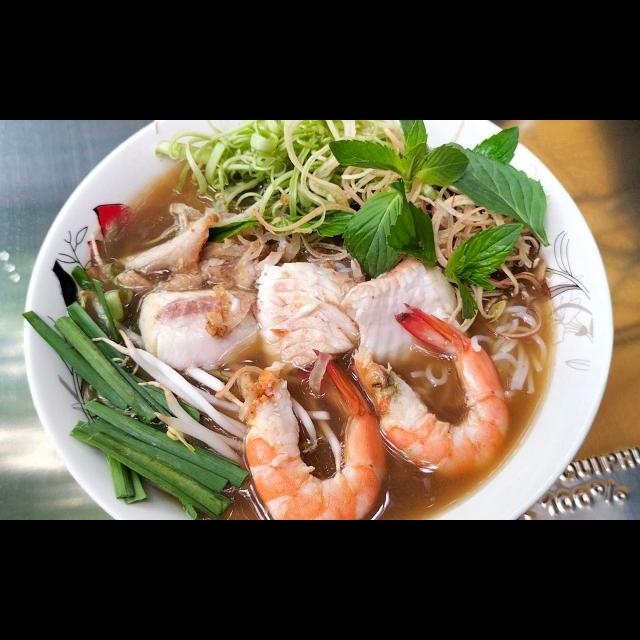bun: (469, 297, 558, 398)
ca: (337, 251, 467, 374), (248, 253, 371, 371), (129, 281, 273, 377)
thit heo quay: (113, 200, 220, 280)
tom: (344, 297, 514, 482), (231, 341, 395, 520)
